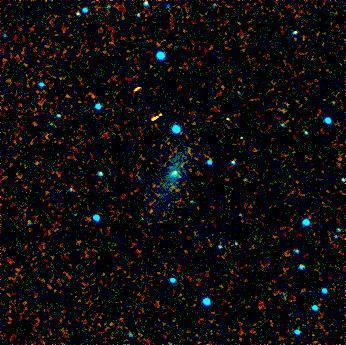star: (211, 103, 241, 133)
